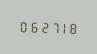eight: (68, 20, 77, 34)
one: (58, 20, 67, 34)
seven: (48, 19, 57, 34)
six: (27, 19, 36, 33)
two: (38, 19, 47, 33)
zero: (17, 18, 26, 33)
